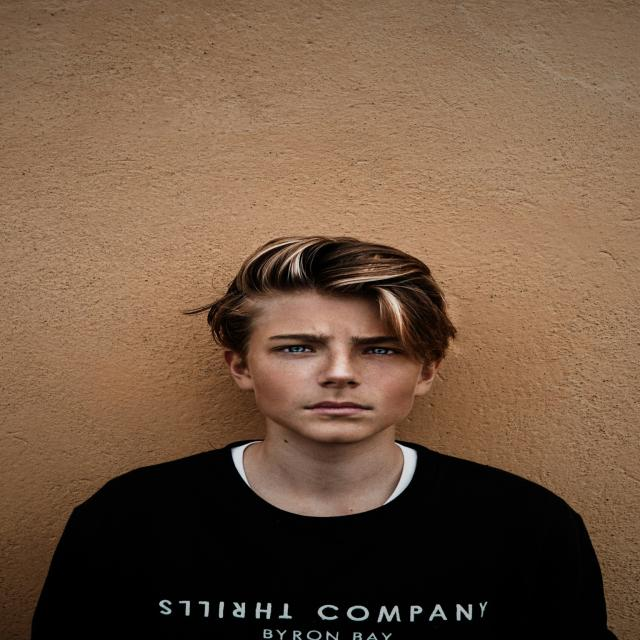human: (30, 230, 639, 640)
